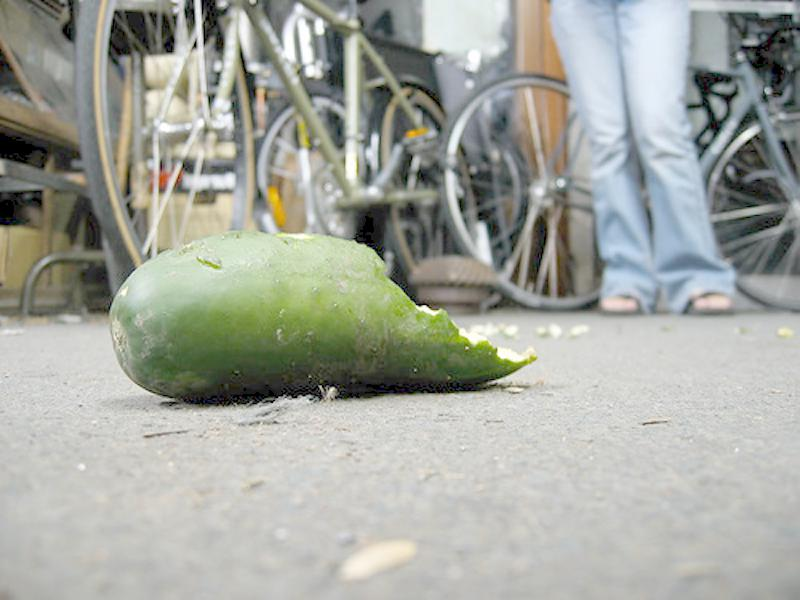Cucumber: (110, 232, 542, 398)
